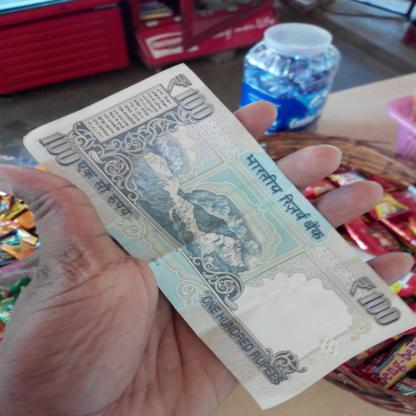Old100Back: (21, 60, 416, 412)
